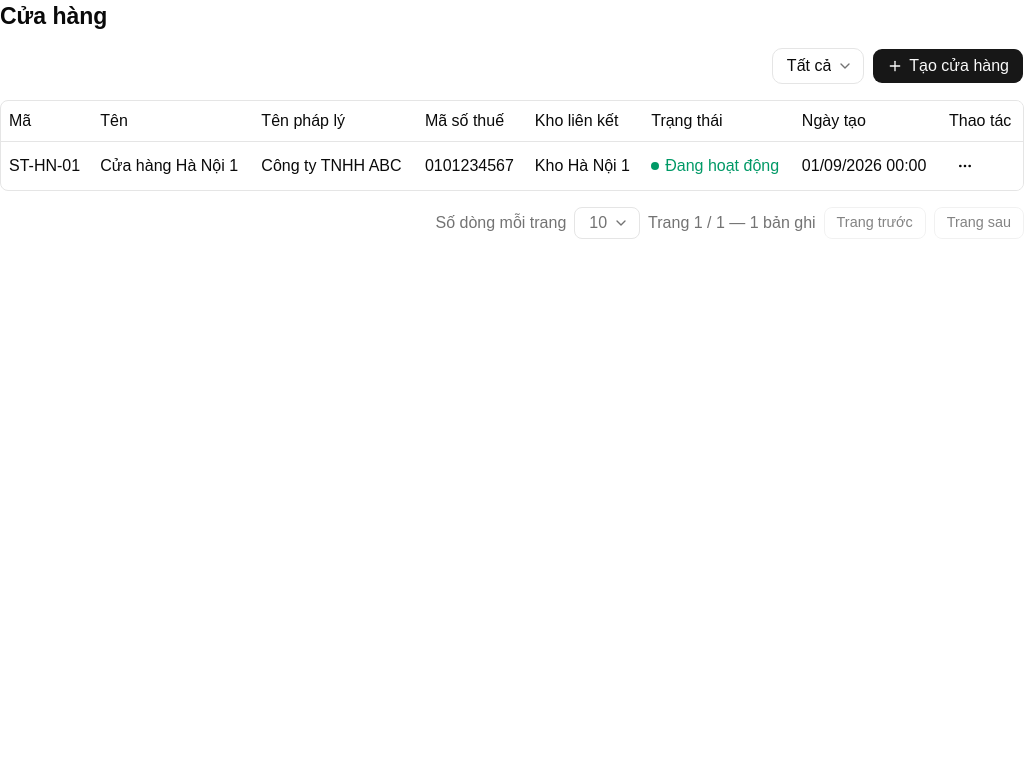
it: StoresPage — quyền ghi và thao tác › Ngừng hoạt động phải xác nhận rồi PATCH { isActive }
The width and height of the screenshot is (1024, 768).
Expected: the link "Cửa hàng Hà Nội 1" is shown, [100, 154, 238, 178]
Click the button named "Thao tác với Cửa hàng Hà Nội 1": {"x": 965, "y": 166} [949, 150, 981, 182]
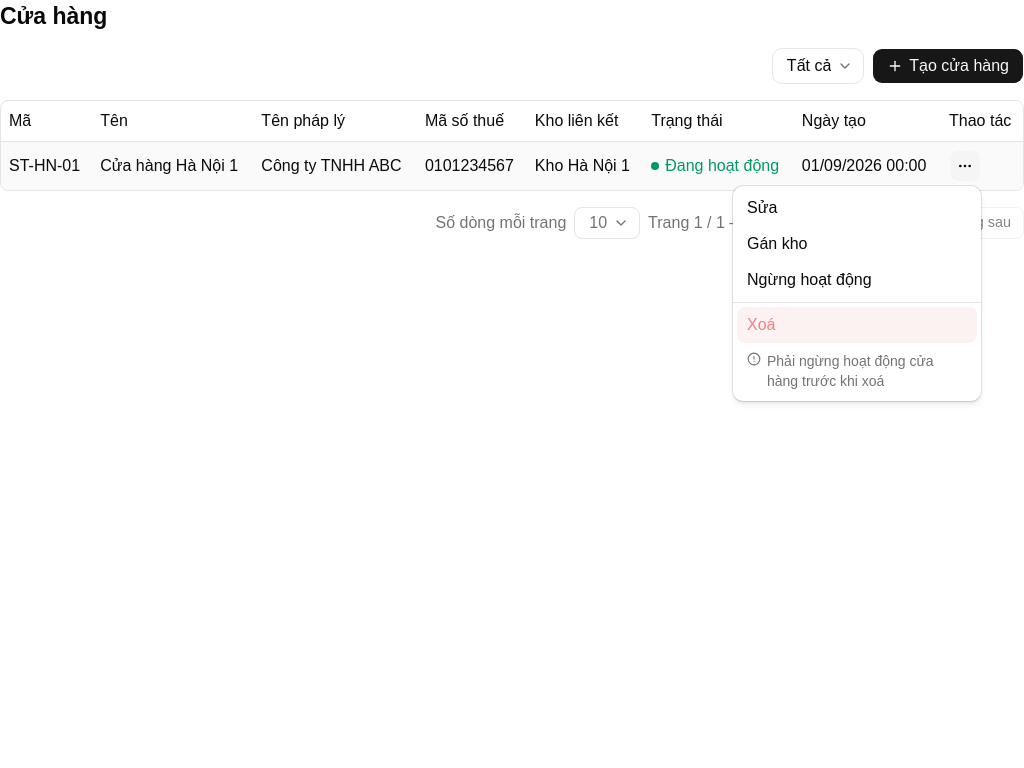
Click the menu item "Ngừng hoạt động": {"x": 809, "y": 280} [747, 271, 872, 288]
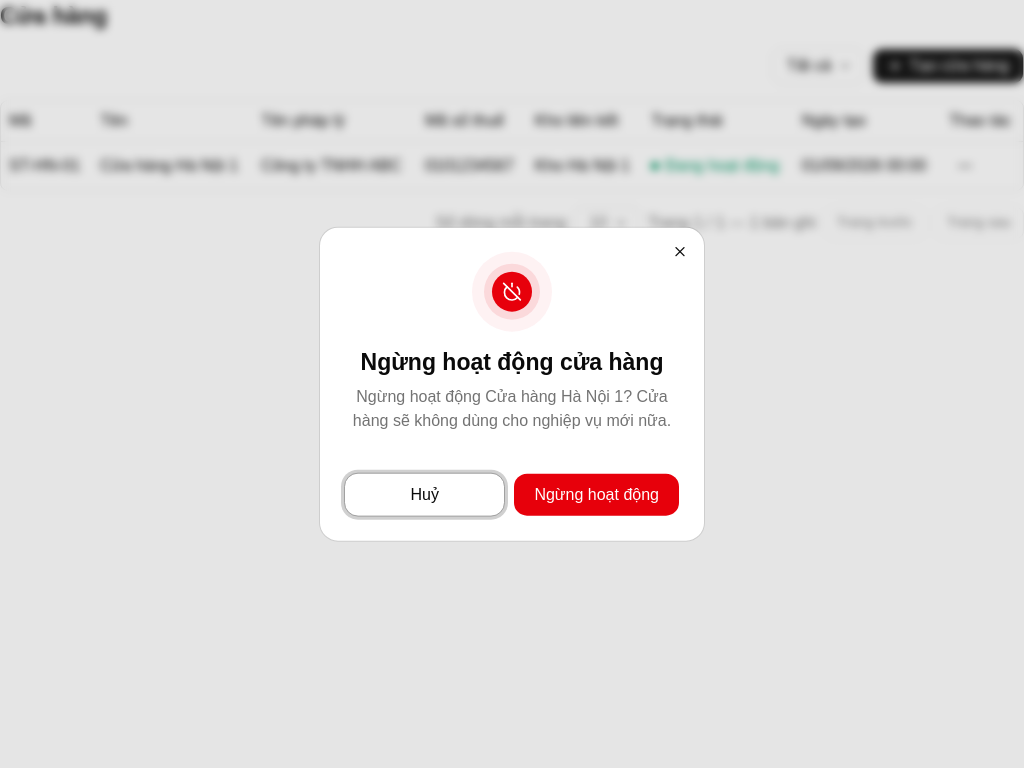
Click the button "Ngừng hoạt động": {"x": 597, "y": 494} [513, 472, 680, 516]
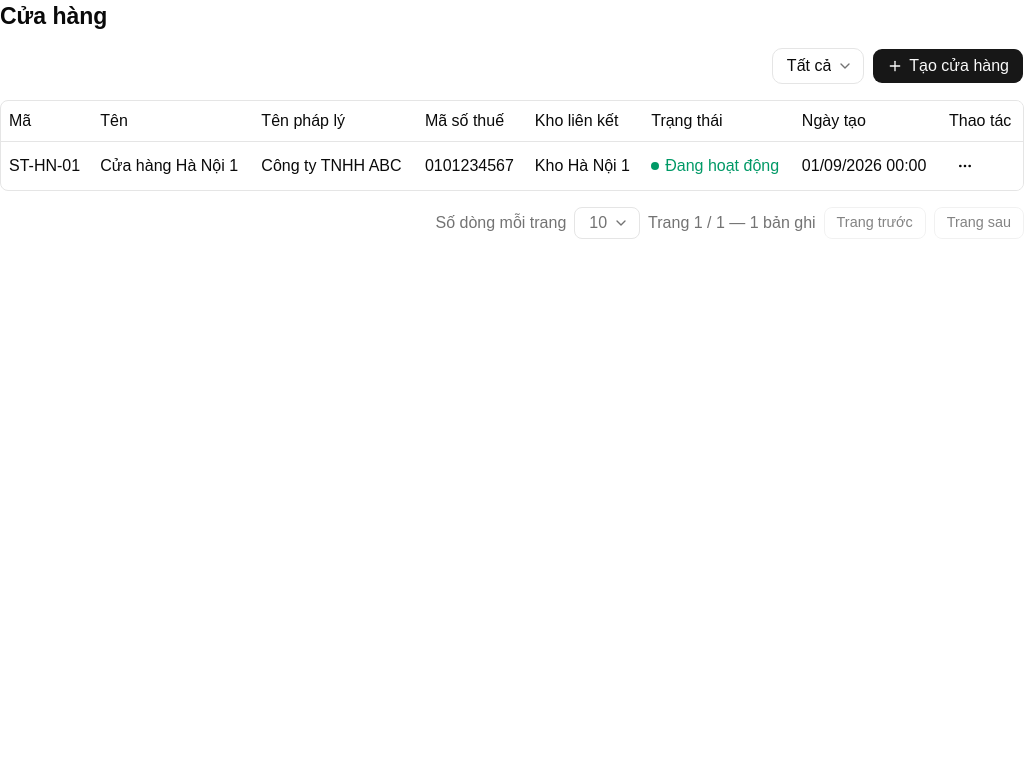
Result: the dialog is gone
